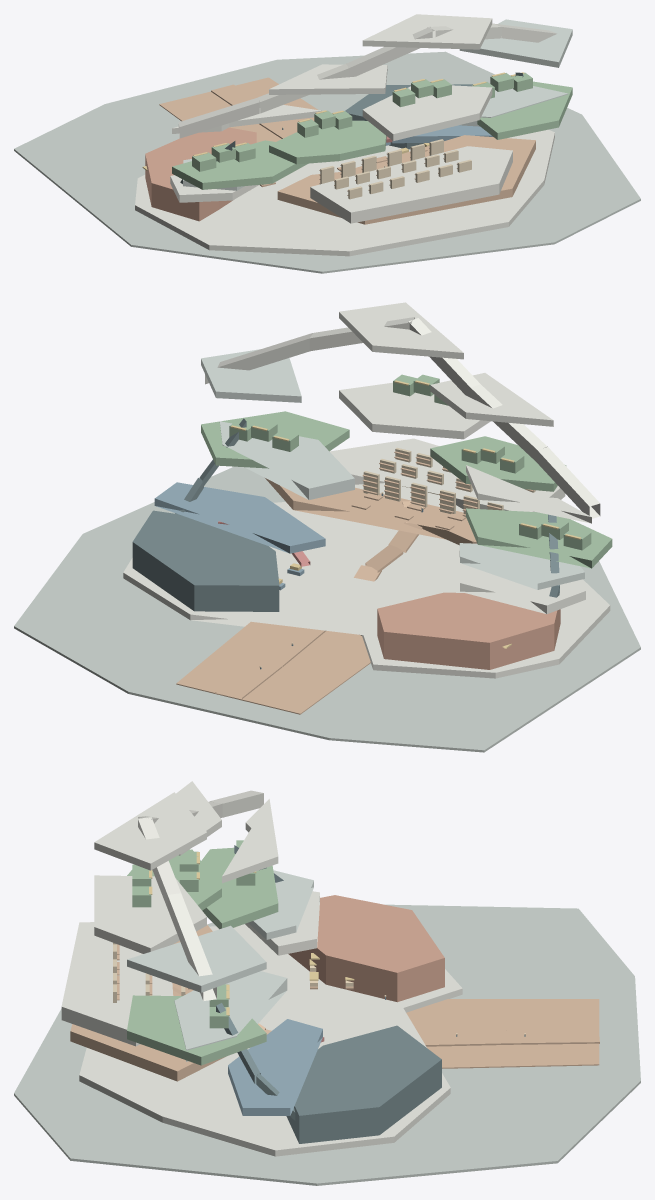
The model's file is a52_inhabited_relief.glb.
3 renders of one model, top to bottom at view 1: azimuth 30°, elevation 25°; view 2: azimuth 150°, elevation 25°; view 3: azimuth 270°, elevation 25°, orthographic. The views are drawn at different scales.
Bounding box in the file's own units: 224 × 87.7 × 211.
